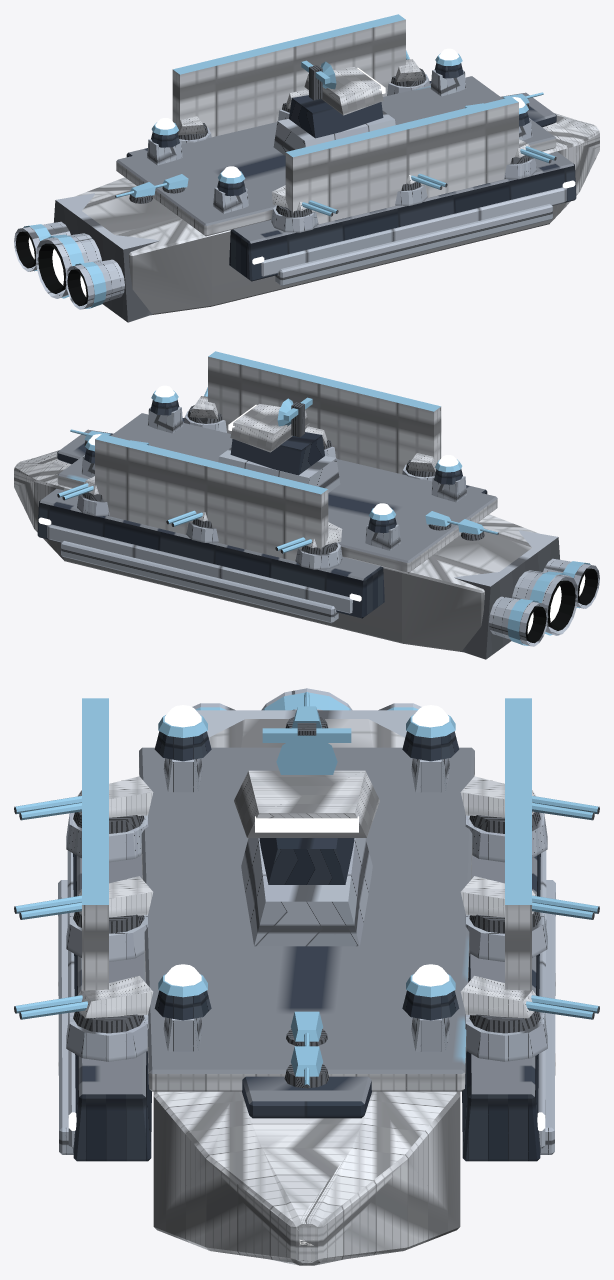
The model's file is cruiser.glb.
3 views of the same model, one above another, from view 1: azimuth 30°, elevation 25°; view 2: azimuth 150°, elevation 25°; view 3: azimuth 270°, elevation 25° (orthographic). The views are drawn at different scales.
Parts seen in each view (by area): view 1: hull_body, engine_block, sensor_tower, weapon_turrets, shield_pylons; view 2: hull_body, engine_block, sensor_tower, weapon_turrets, shield_pylons; view 3: hull_body, weapon_turrets, sensor_tower, shield_pylons, engine_block.
Boxes of the visible parts, x1,y1,x2,y2 form: hull_body: [75, 14, 599, 315]; engine_block: [14, 193, 159, 322]; sensor_tower: [273, 60, 395, 155]; weapon_turrets: [115, 50, 556, 232]; shield_pylons: [147, 48, 532, 213]; hull_body: [14, 351, 538, 652]; engine_block: [454, 530, 599, 659]; sensor_tower: [218, 397, 340, 492]; weapon_turrets: [57, 387, 498, 569]; shield_pylons: [81, 385, 466, 550]; hull_body: [58, 698, 555, 1265]; weapon_turrets: [14, 692, 599, 1088]; sensor_tower: [234, 723, 379, 946]; shield_pylons: [154, 705, 459, 1051]; engine_block: [192, 688, 421, 737].
Bounding box in the file's own units: 42 × 13.22 × 20.87.
Materials: 1 (1 with a texture image).
